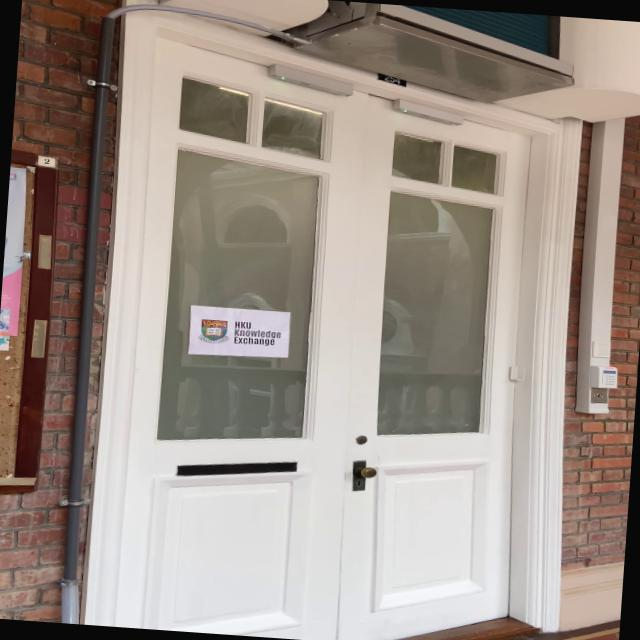room254: (374, 70, 409, 88)
